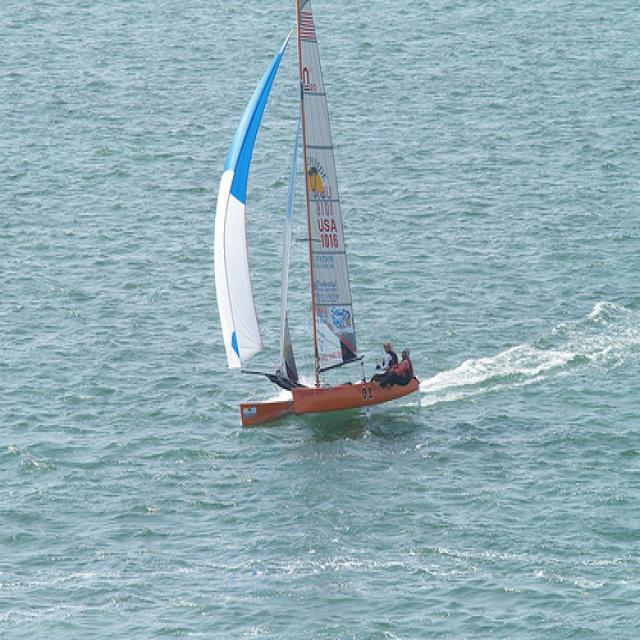Ship: (203, 2, 426, 422)
